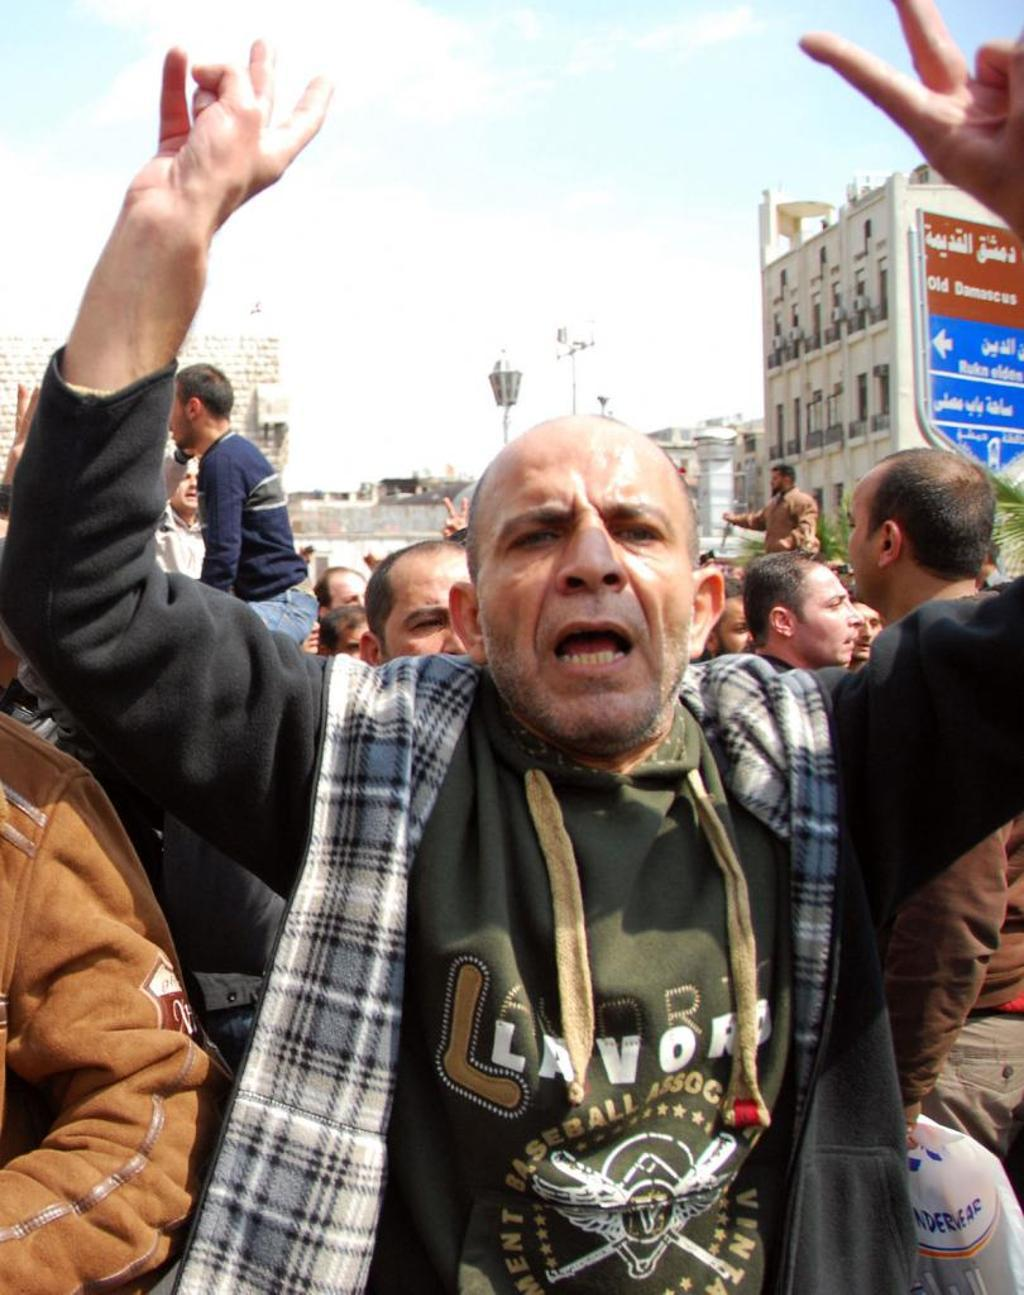face: (477, 424, 698, 743), (383, 555, 502, 722), (793, 568, 865, 664), (847, 465, 880, 599), (721, 598, 775, 663), (334, 624, 378, 683), (331, 576, 373, 634), (847, 601, 882, 660), (169, 460, 206, 509), (164, 386, 189, 449), (293, 606, 320, 655), (770, 470, 784, 491)
